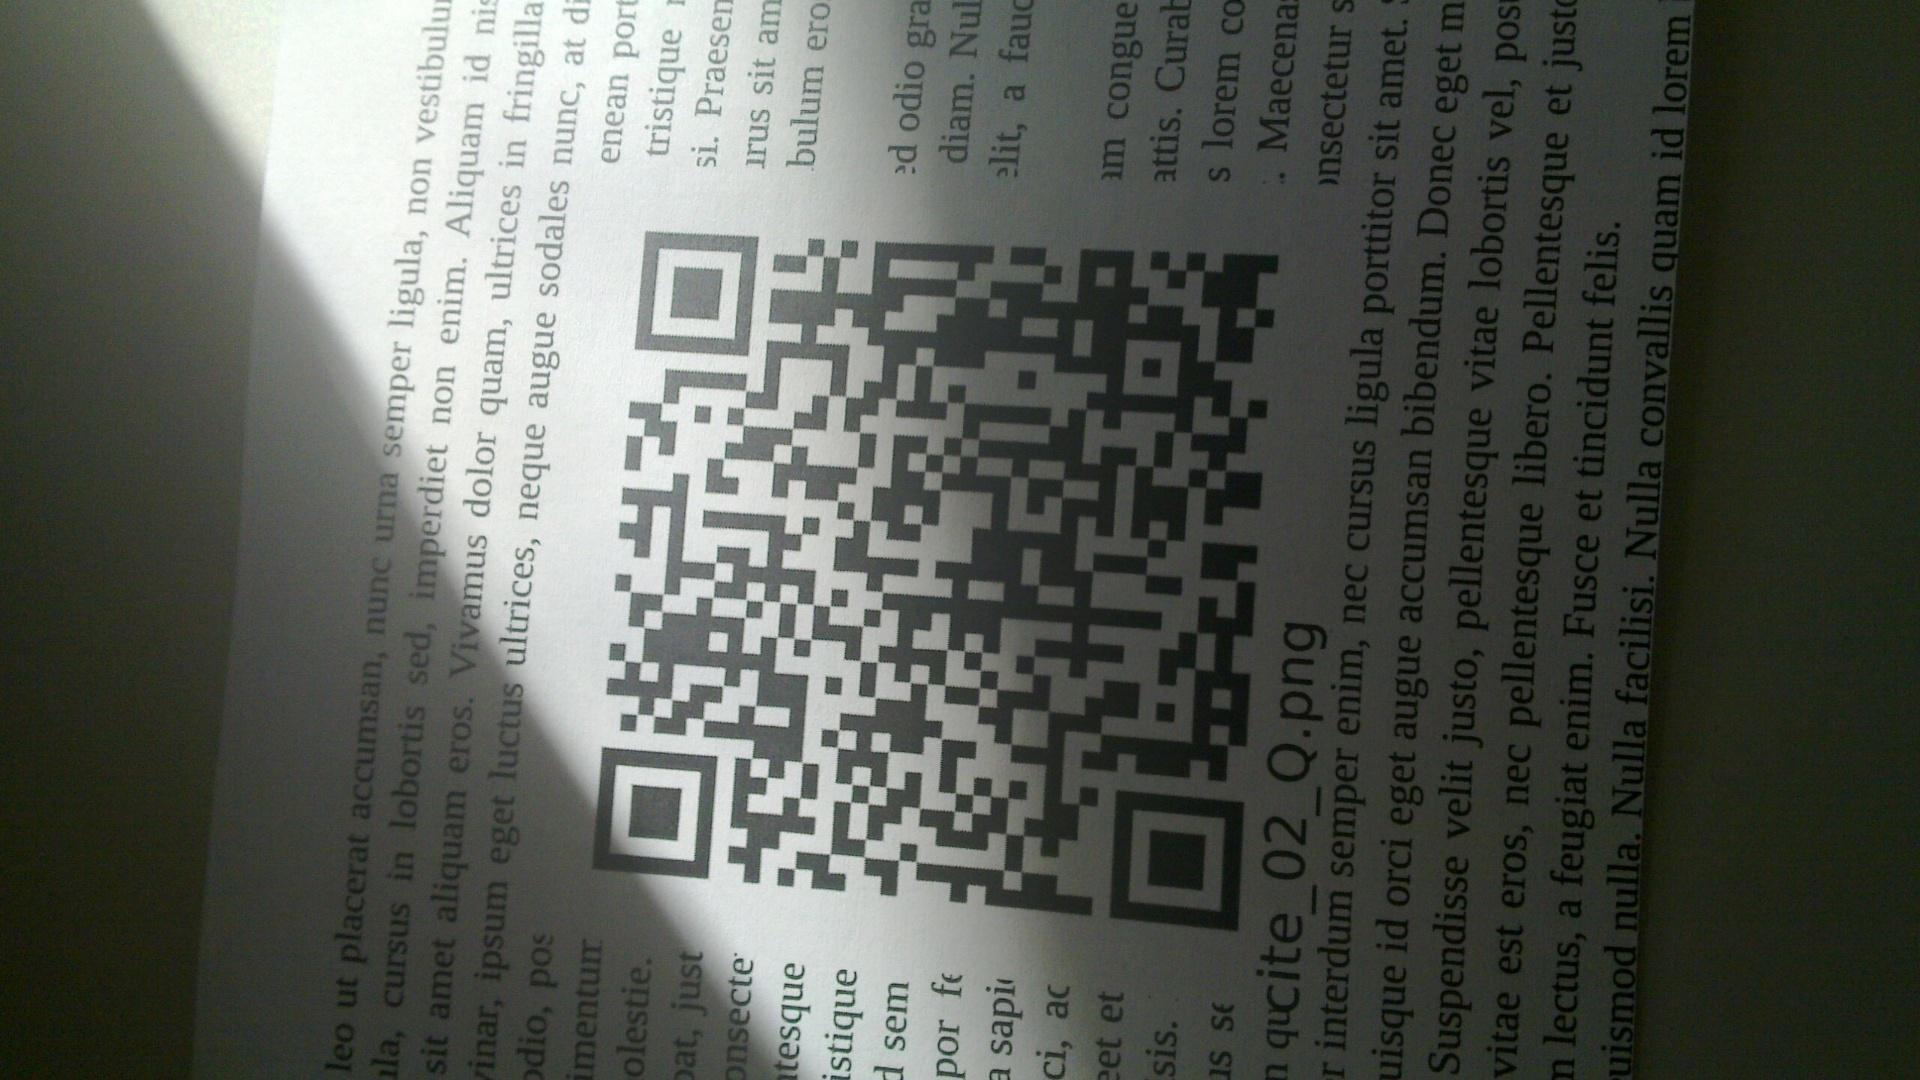qr_code: (589, 231, 1283, 935)
